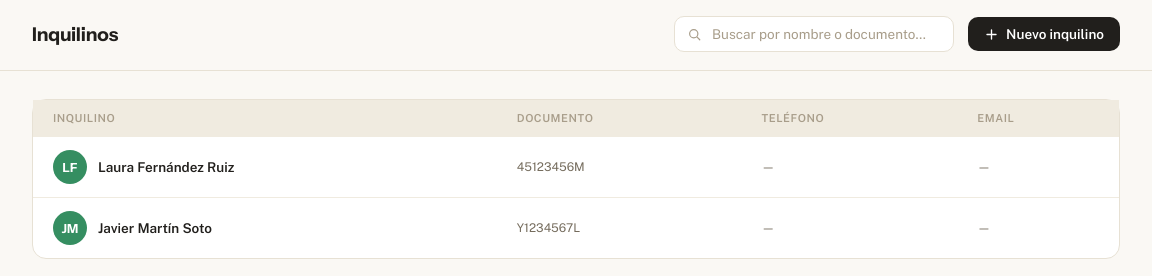
Scenario: InquilinosListado › permite buscar por nombre
This screenshot has width=1152, height=276.
Expected: the text "Laura Fernández Ruiz" is shown, [98,159,234,175]
Type "javier" into the field with placeholder "Buscar por nombre o documento…".
click(826, 34); type("javier")  # box [710,25,941,43]
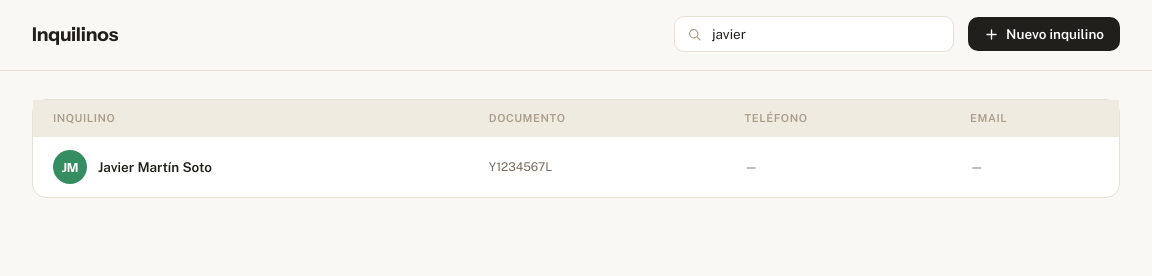
Expected: the text "Javier Martín Soto" is shown, [98,159,212,175]
Expected: the text "Laura Fernández Ruiz" is gone
